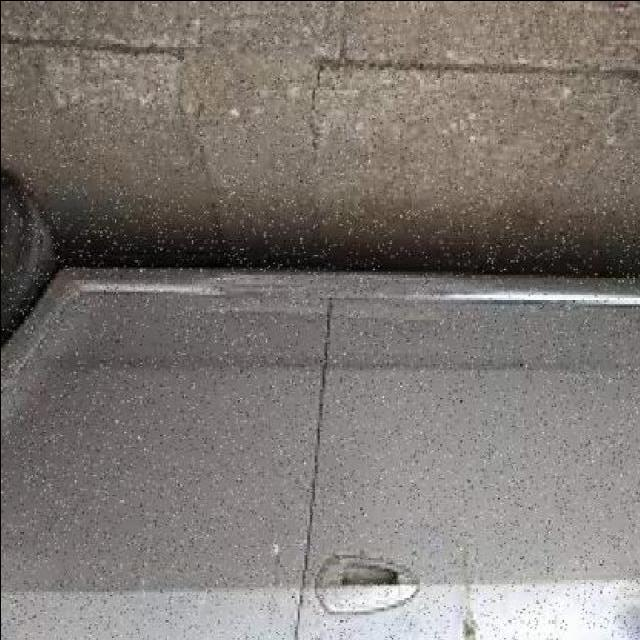RunningBoard-Dent: (185, 254, 536, 304)
doorouter-dent: (2, 297, 323, 640), (320, 297, 637, 640)
